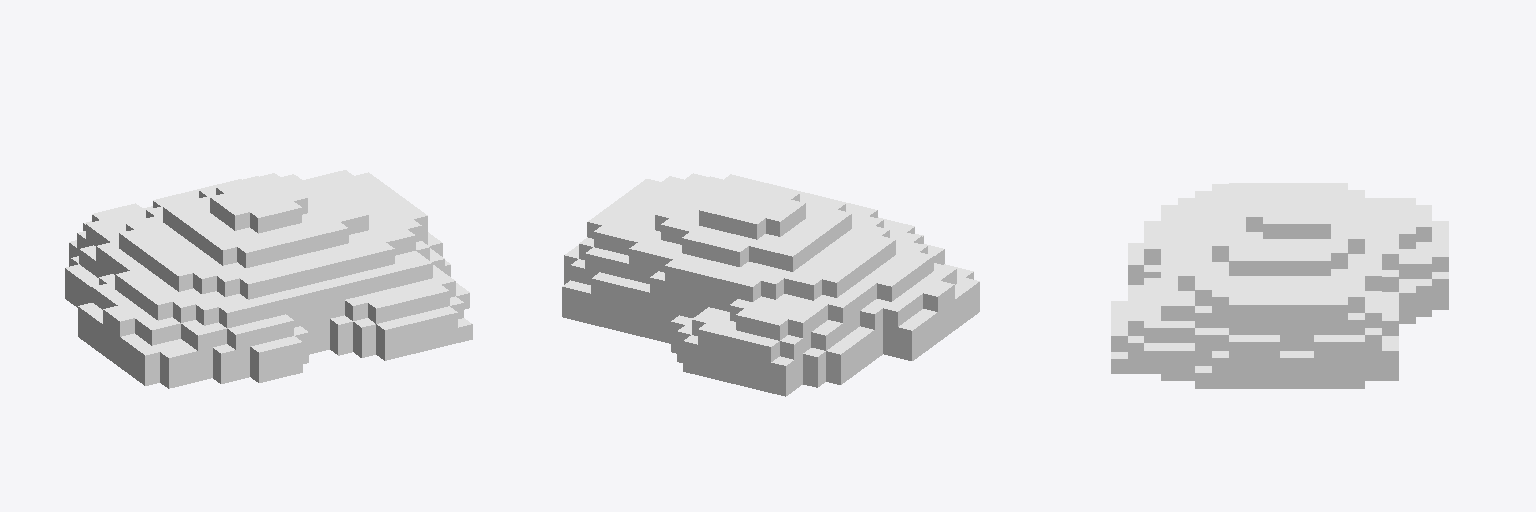
The model's file is rock_0.obj.
3 views of the same model, side by side, from view 1: azimuth 30°, elevation 25°; view 2: azimuth 150°, elevation 25°; view 3: azimuth 270°, elevation 25° (orthographic).
Visible parts, largest first — view 1: object 1; view 2: object 1; view 3: object 1.
Part boxes in pixels (x1,y1,x2,y2): object 1: (65,170,472,388); object 1: (562,173,979,396); object 1: (1111,183,1448,388).
Bounding box in the file's own units: 2.2 × 0.7 × 2.